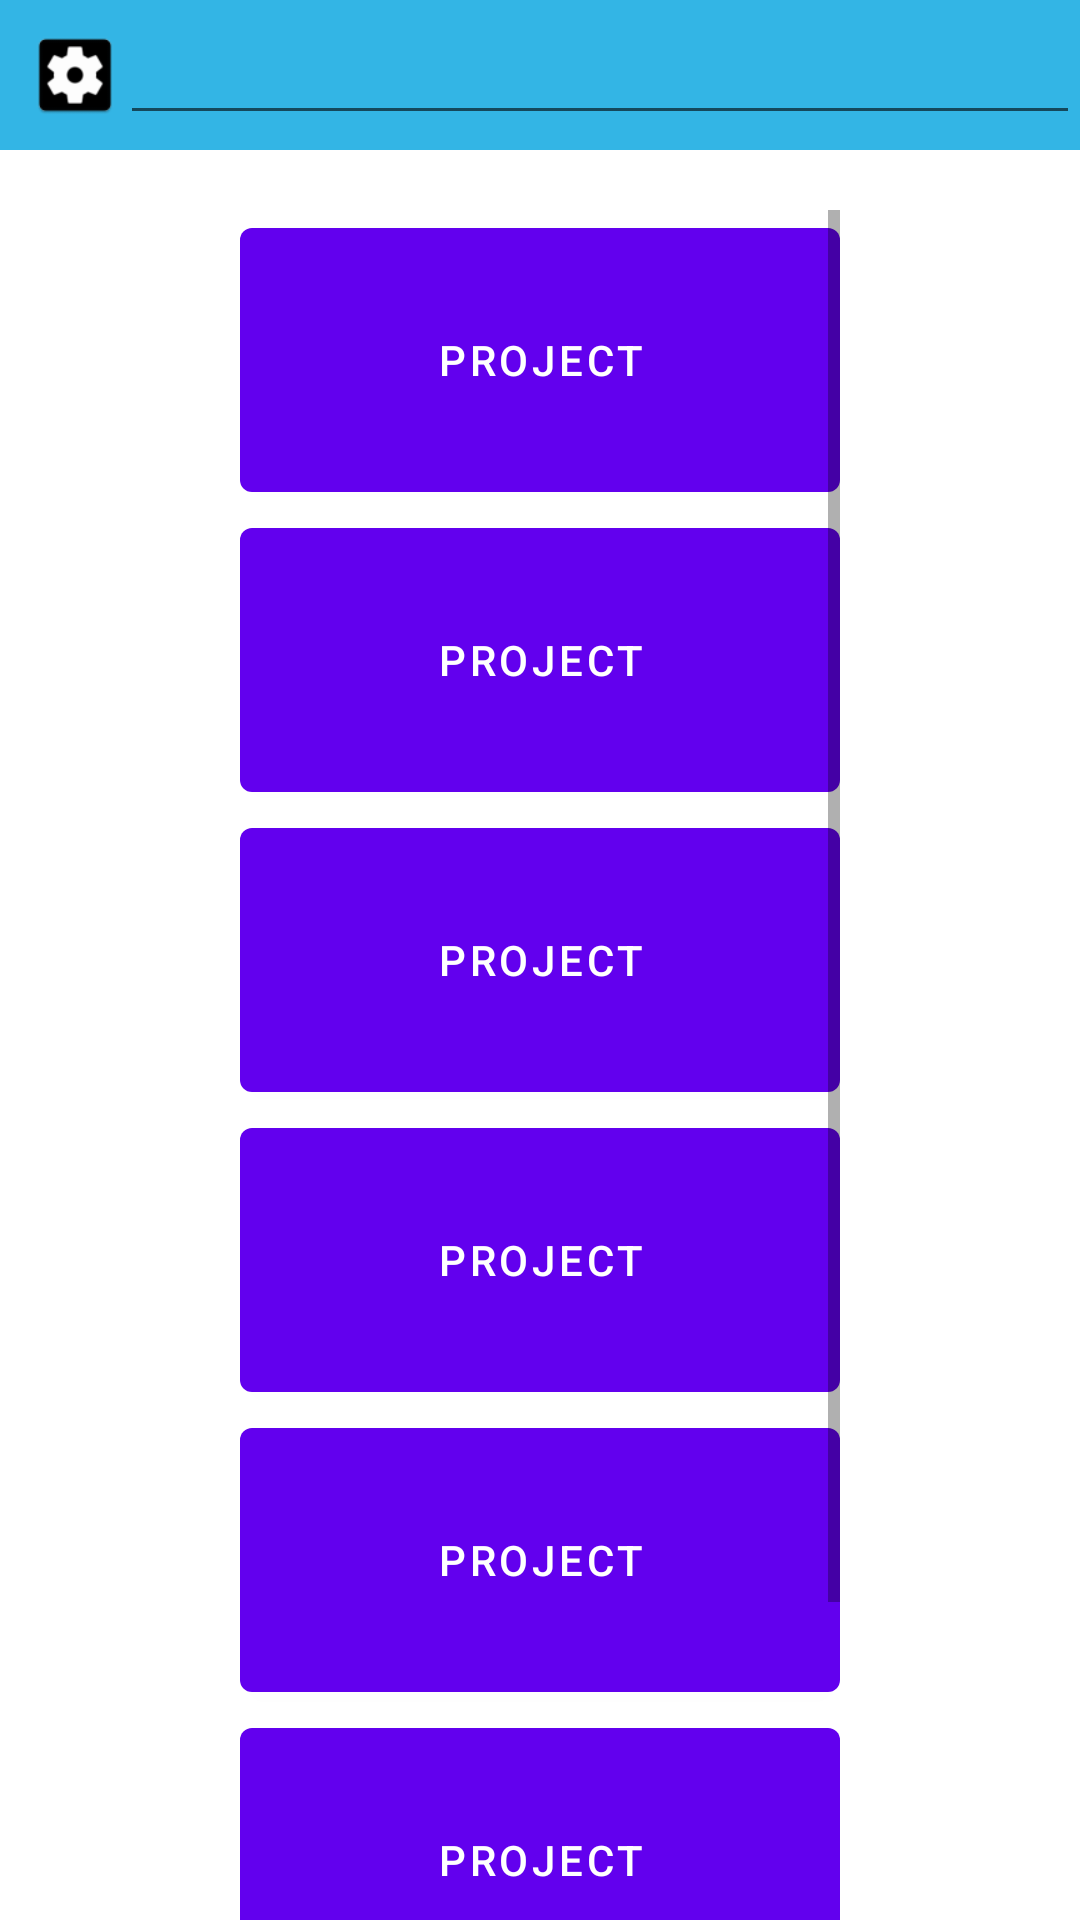

Named icons in this screenshot (1080x1920) and their centers, point (x, y):
settings: point (75, 75)
